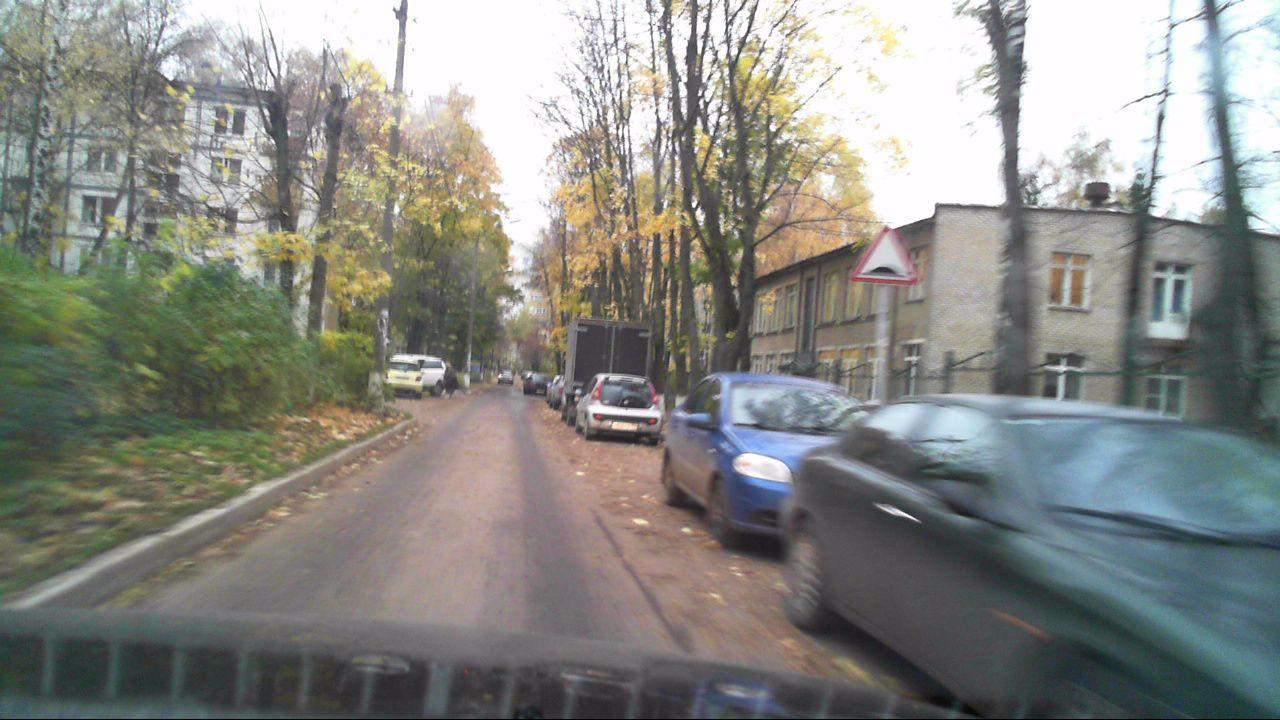1_17: (851, 225, 919, 284)
